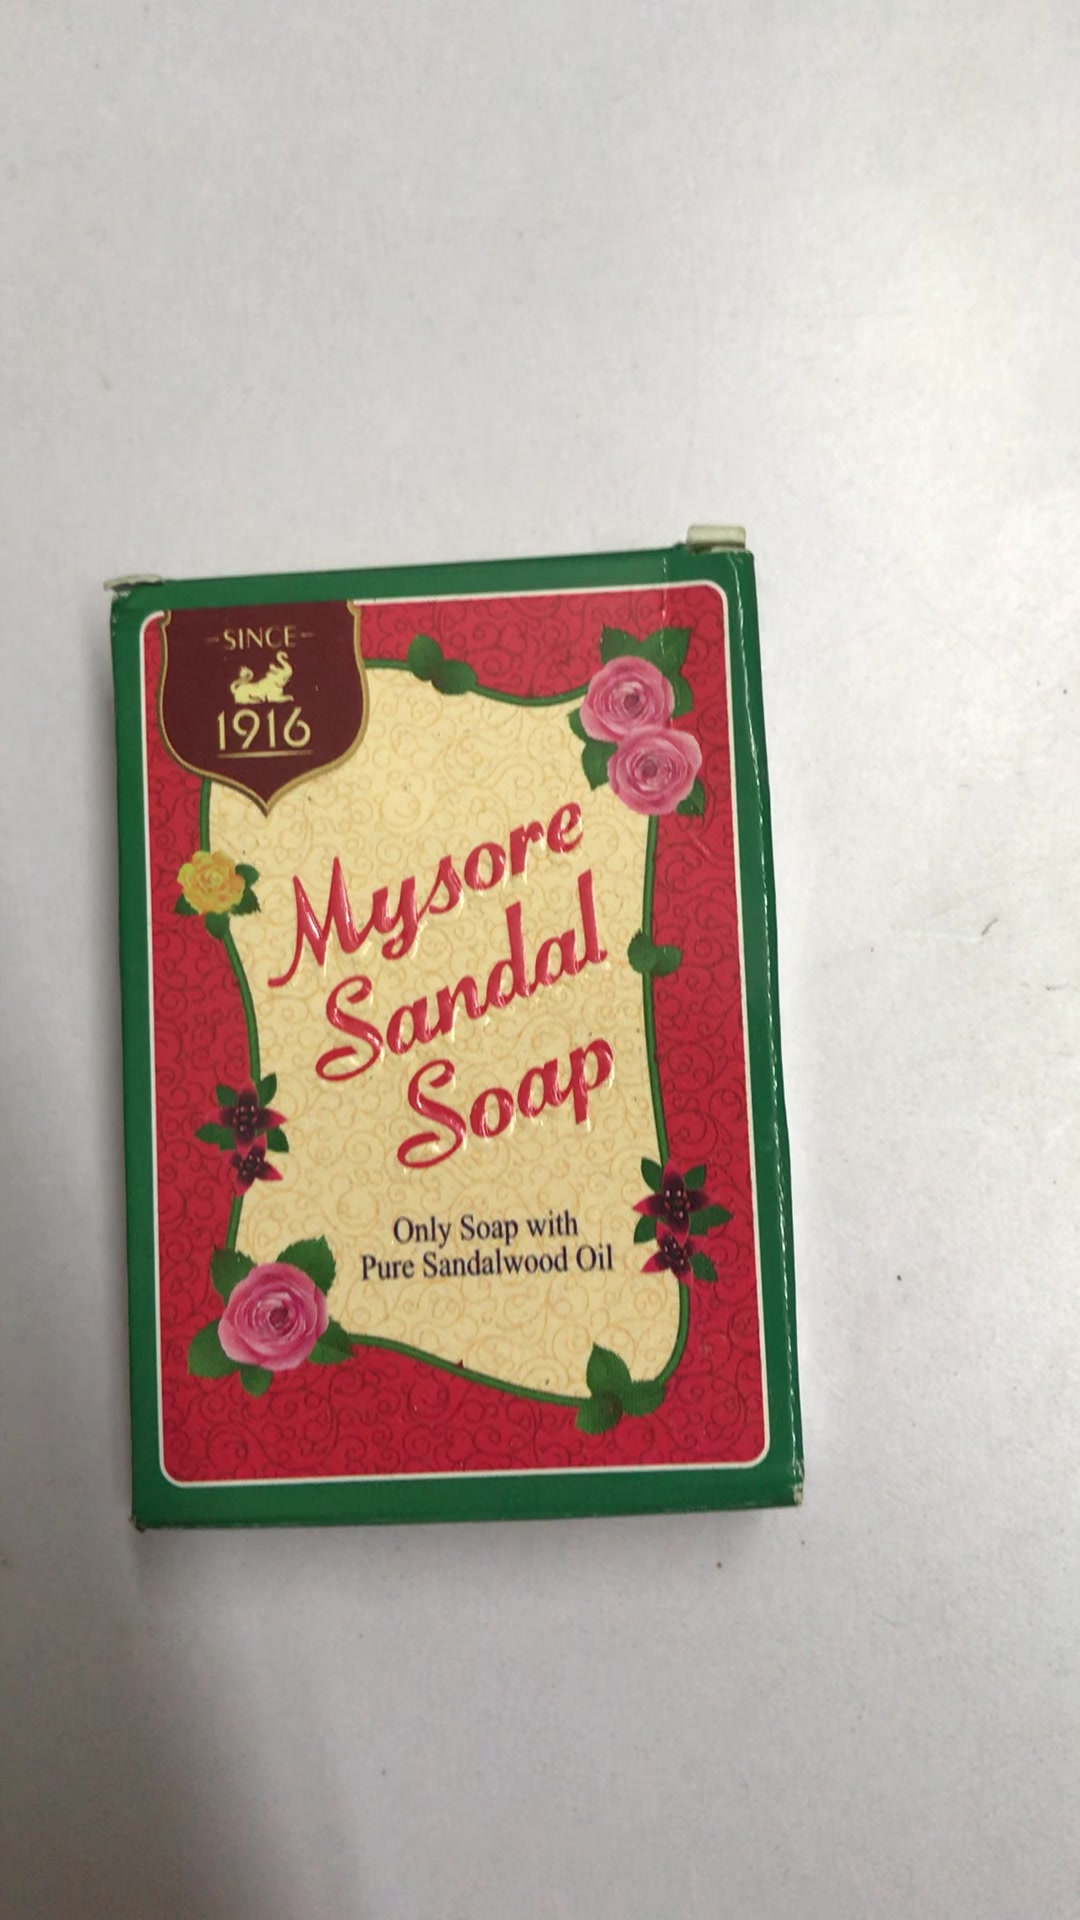mysore sandal soap: (113, 560, 786, 1520)
